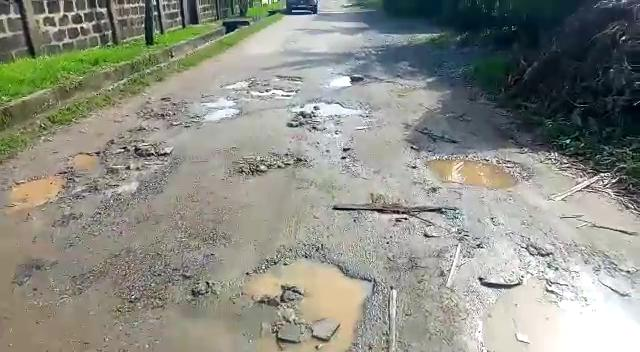pothole: (244, 247, 378, 352), (484, 270, 640, 352), (421, 149, 535, 188), (69, 140, 173, 176), (0, 169, 72, 211), (282, 99, 370, 128), (221, 76, 302, 96), (199, 97, 242, 122), (327, 73, 361, 91)
